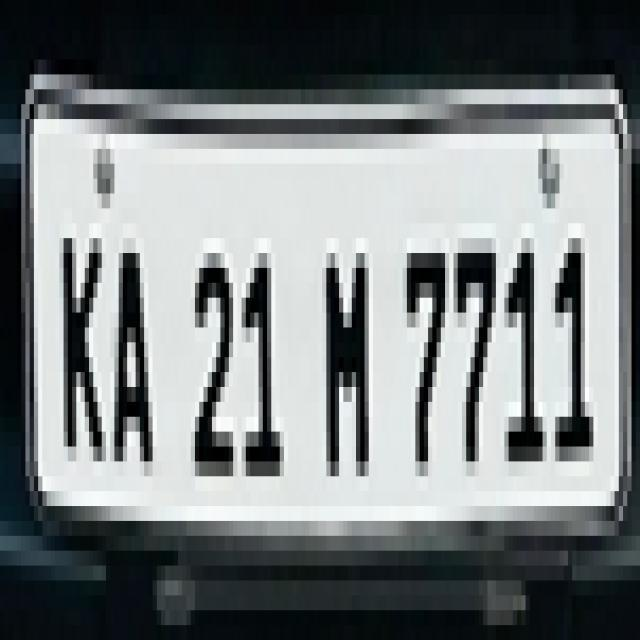1: (548, 223, 598, 467), (240, 243, 290, 484), (502, 232, 546, 472)
7: (400, 227, 449, 482), (451, 232, 498, 472)
A: (112, 229, 158, 486)
K: (55, 205, 106, 472)
M: (322, 223, 373, 493)
